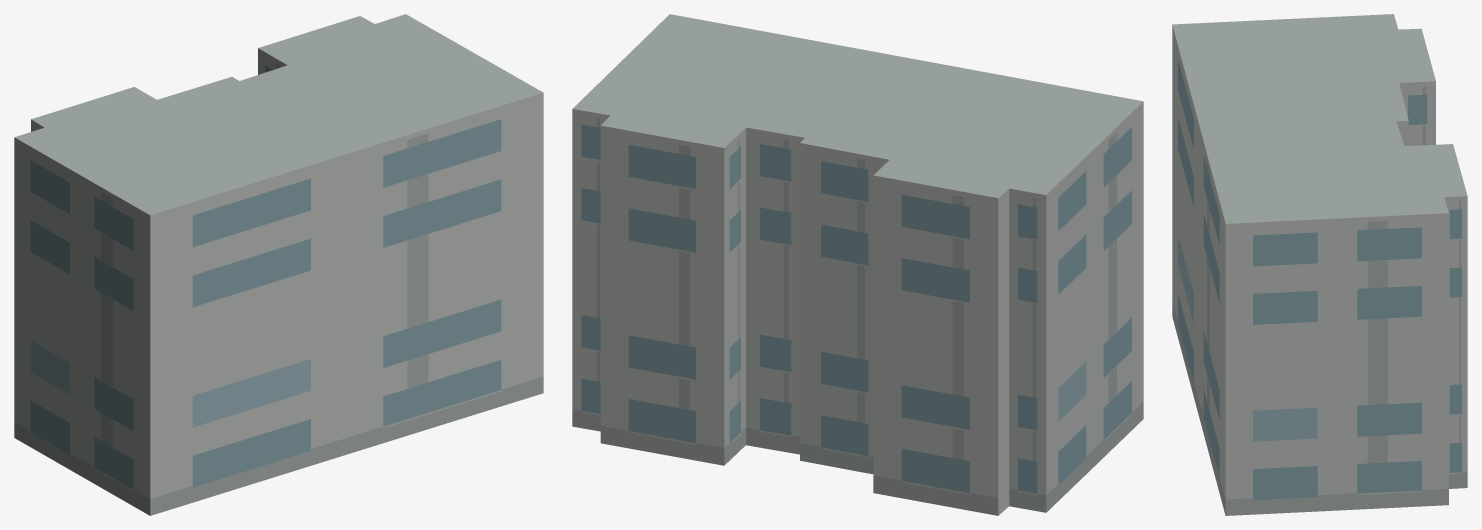
The model's file is survey-upis-32946177.glb.
3 views of the same model, side by side, from view 1: azimuth 30°, elevation 25°; view 2: azimuth 150°, elevation 25°; view 3: azimuth 270°, elevation 25° (orthographic). The views are drawn at different scales.
Visible parts, largest first — view 1: survey-upis-32946177.tmp; view 2: survey-upis-32946177.tmp; view 3: survey-upis-32946177.tmp.
Part boxes in pixels (x1,y1,x2,y2): survey-upis-32946177.tmp: (14, 14, 543, 515); survey-upis-32946177.tmp: (572, 14, 1143, 515); survey-upis-32946177.tmp: (1172, 14, 1467, 515).
Bounding box in the file's own units: 23.52 × 15.25 × 13.99.
